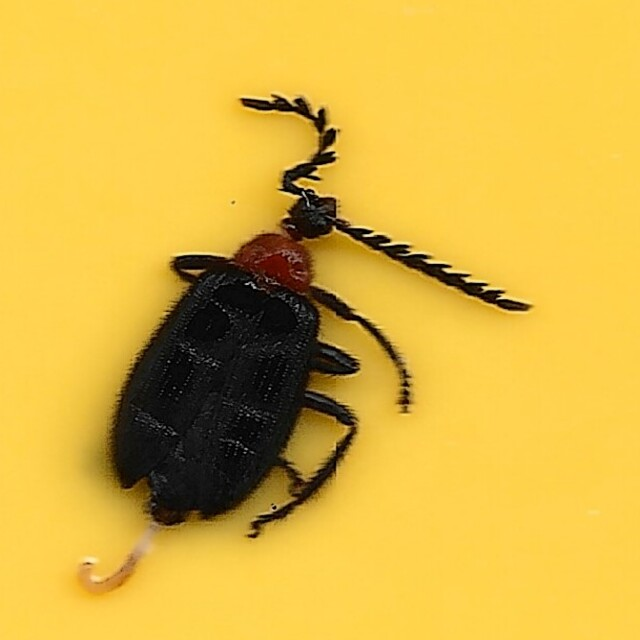Coleoptera: (105, 96, 535, 544)
